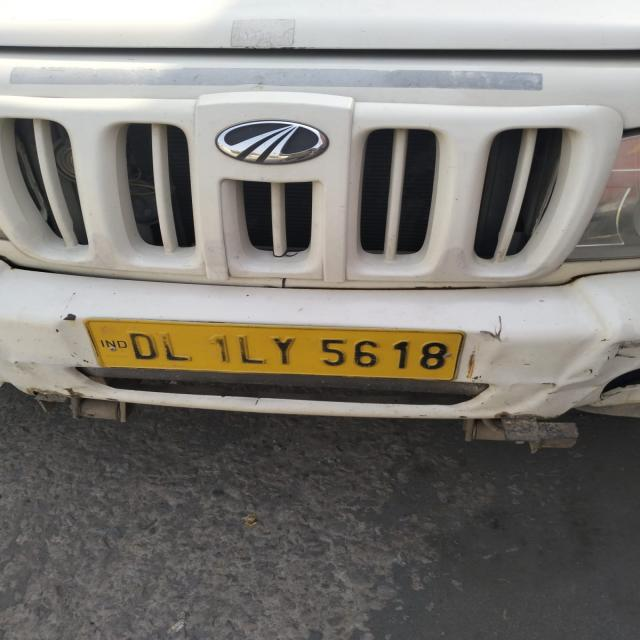License-plate: (94, 321, 456, 378)
